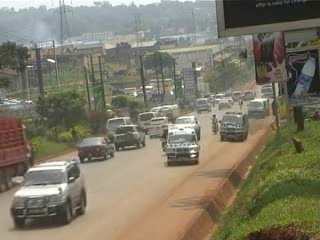Car: (10, 158, 89, 227), (77, 133, 118, 164), (111, 121, 147, 152), (172, 112, 204, 143), (147, 114, 173, 138), (217, 96, 231, 110)
Motorcycle: (158, 135, 167, 154), (209, 119, 219, 136)
